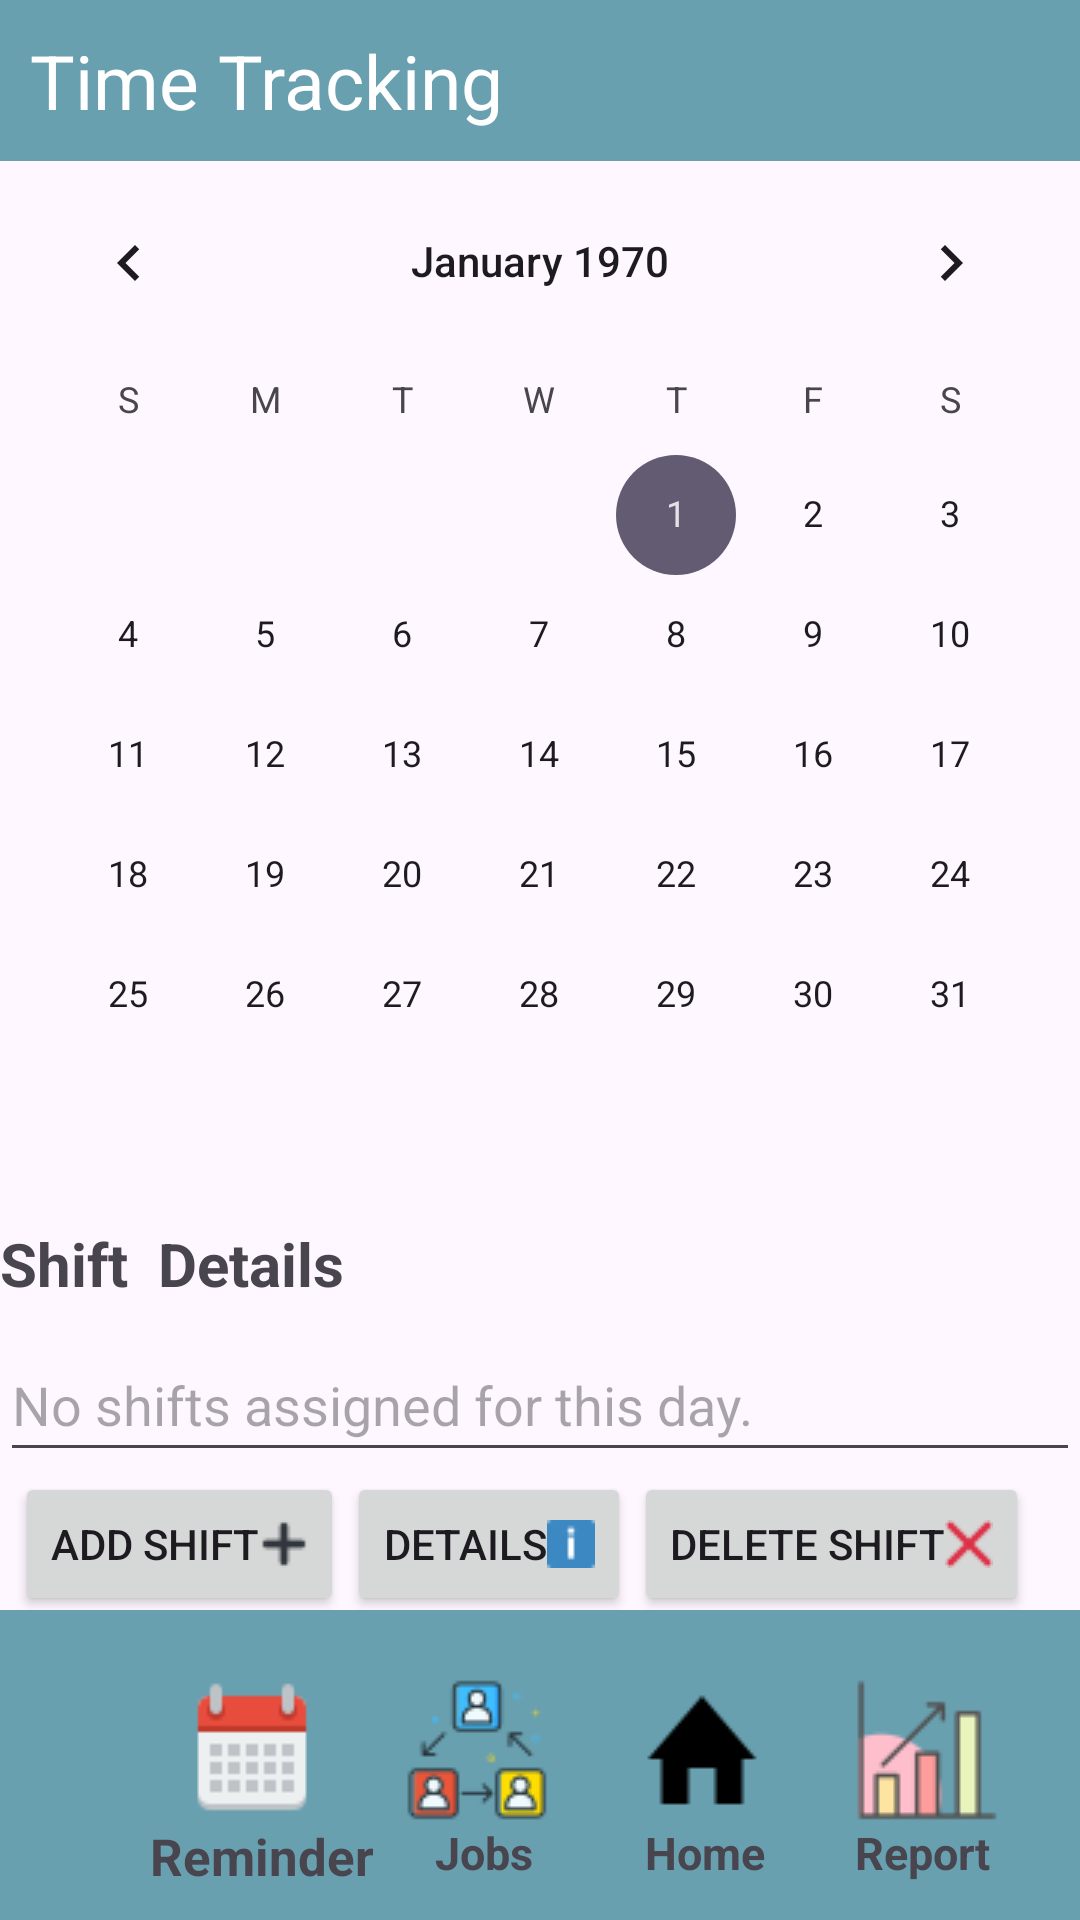

Point at icon controls on the screen. Image size 1080x1920, points as (x,y).
analytics: (927,1750)
calendar: (252,1747)
